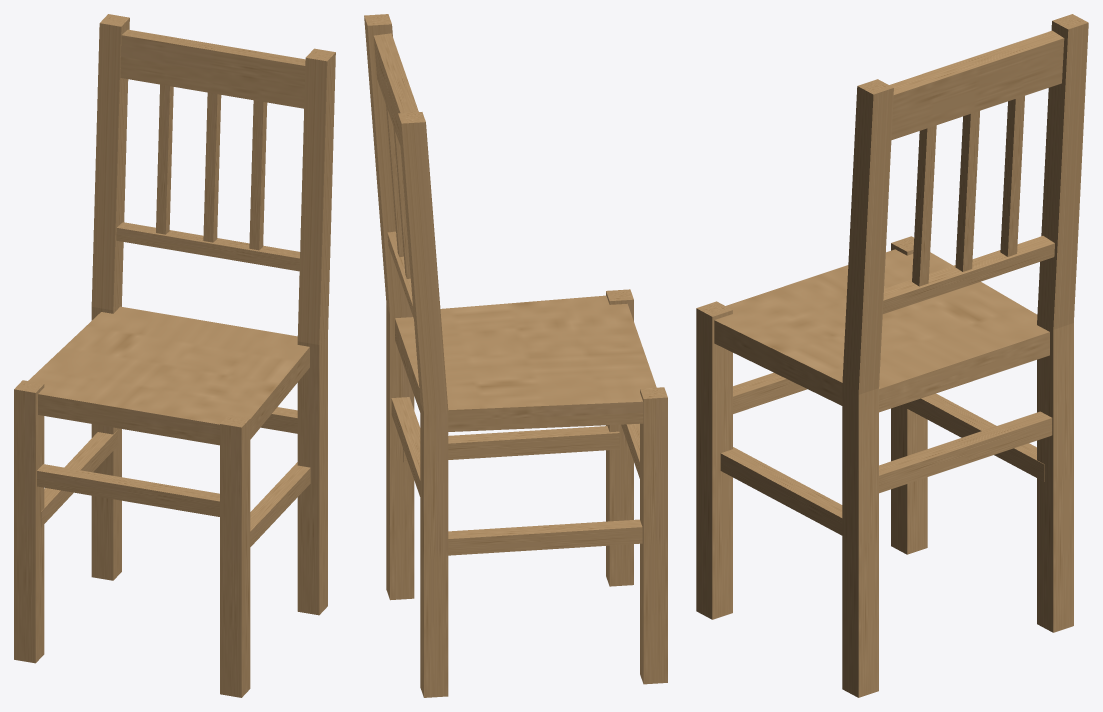
Rendered from K_Chair.glb.
3 views of the same model, side by side, from view 1: azimuth 30°, elevation 25°; view 2: azimuth 150°, elevation 25°; view 3: azimuth 270°, elevation 25° (orthographic). The views are drawn at different scales.
Parts seen in each view (by area): view 1: Kitchen_Chair; view 2: Kitchen_Chair; view 3: Kitchen_Chair.
Boxes of the visible parts, left/top/right/bottom form: Kitchen_Chair: left=14, top=14, right=335, bottom=697; Kitchen_Chair: left=364, top=14, right=667, bottom=697; Kitchen_Chair: left=696, top=14, right=1088, bottom=697.
Size of the model in its own units: 0.9083 by 1.55 by 0.9041.
Materials: 1 (1 with a texture image).
